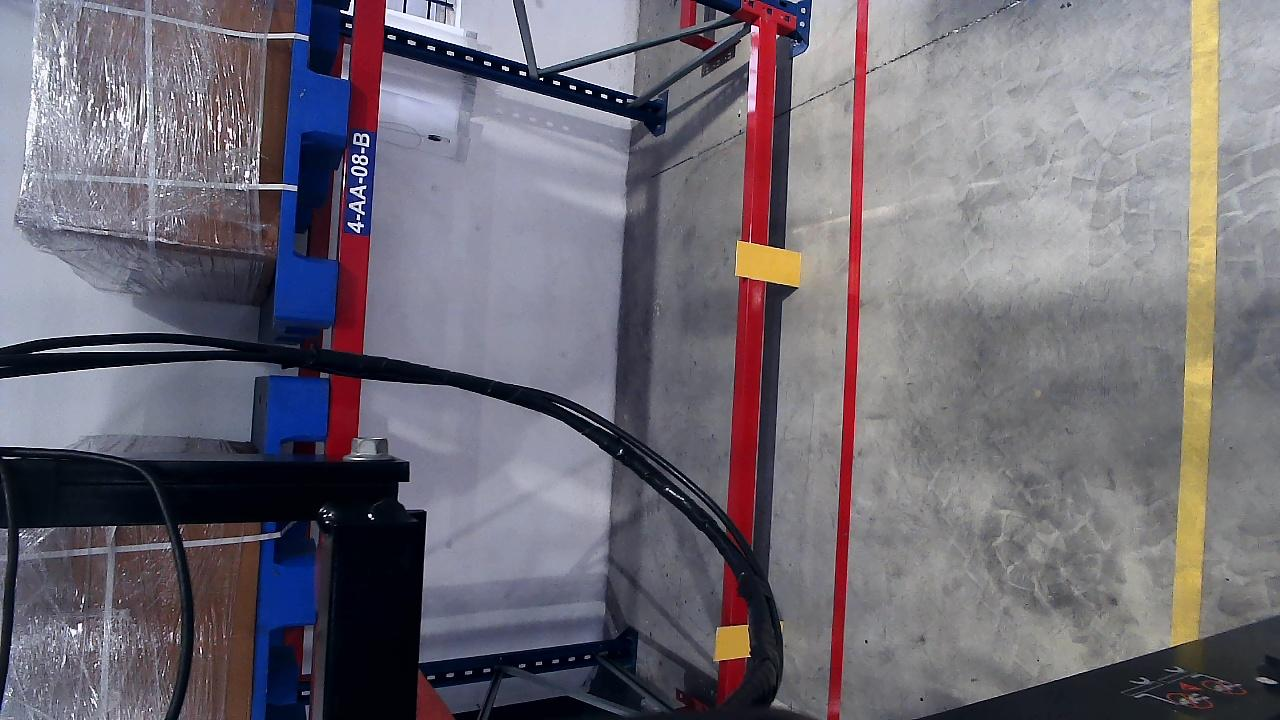h_rack: (724, 35, 775, 706), (331, 1, 388, 442)
orange_strip: (735, 241, 801, 287), (715, 624, 752, 659)
red_line: (252, 382, 329, 720), (832, 10, 869, 709)
small_pallet: (267, 1, 361, 322)
yellow_line: (1171, 6, 1219, 647)
